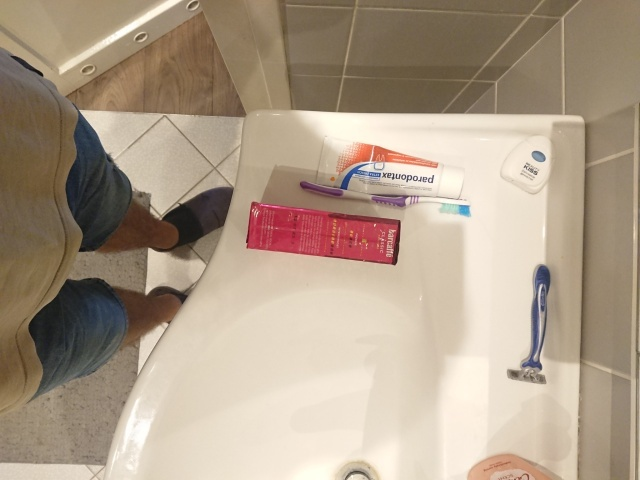Barcaffe Classic Original 225g: (244, 200, 403, 267)
